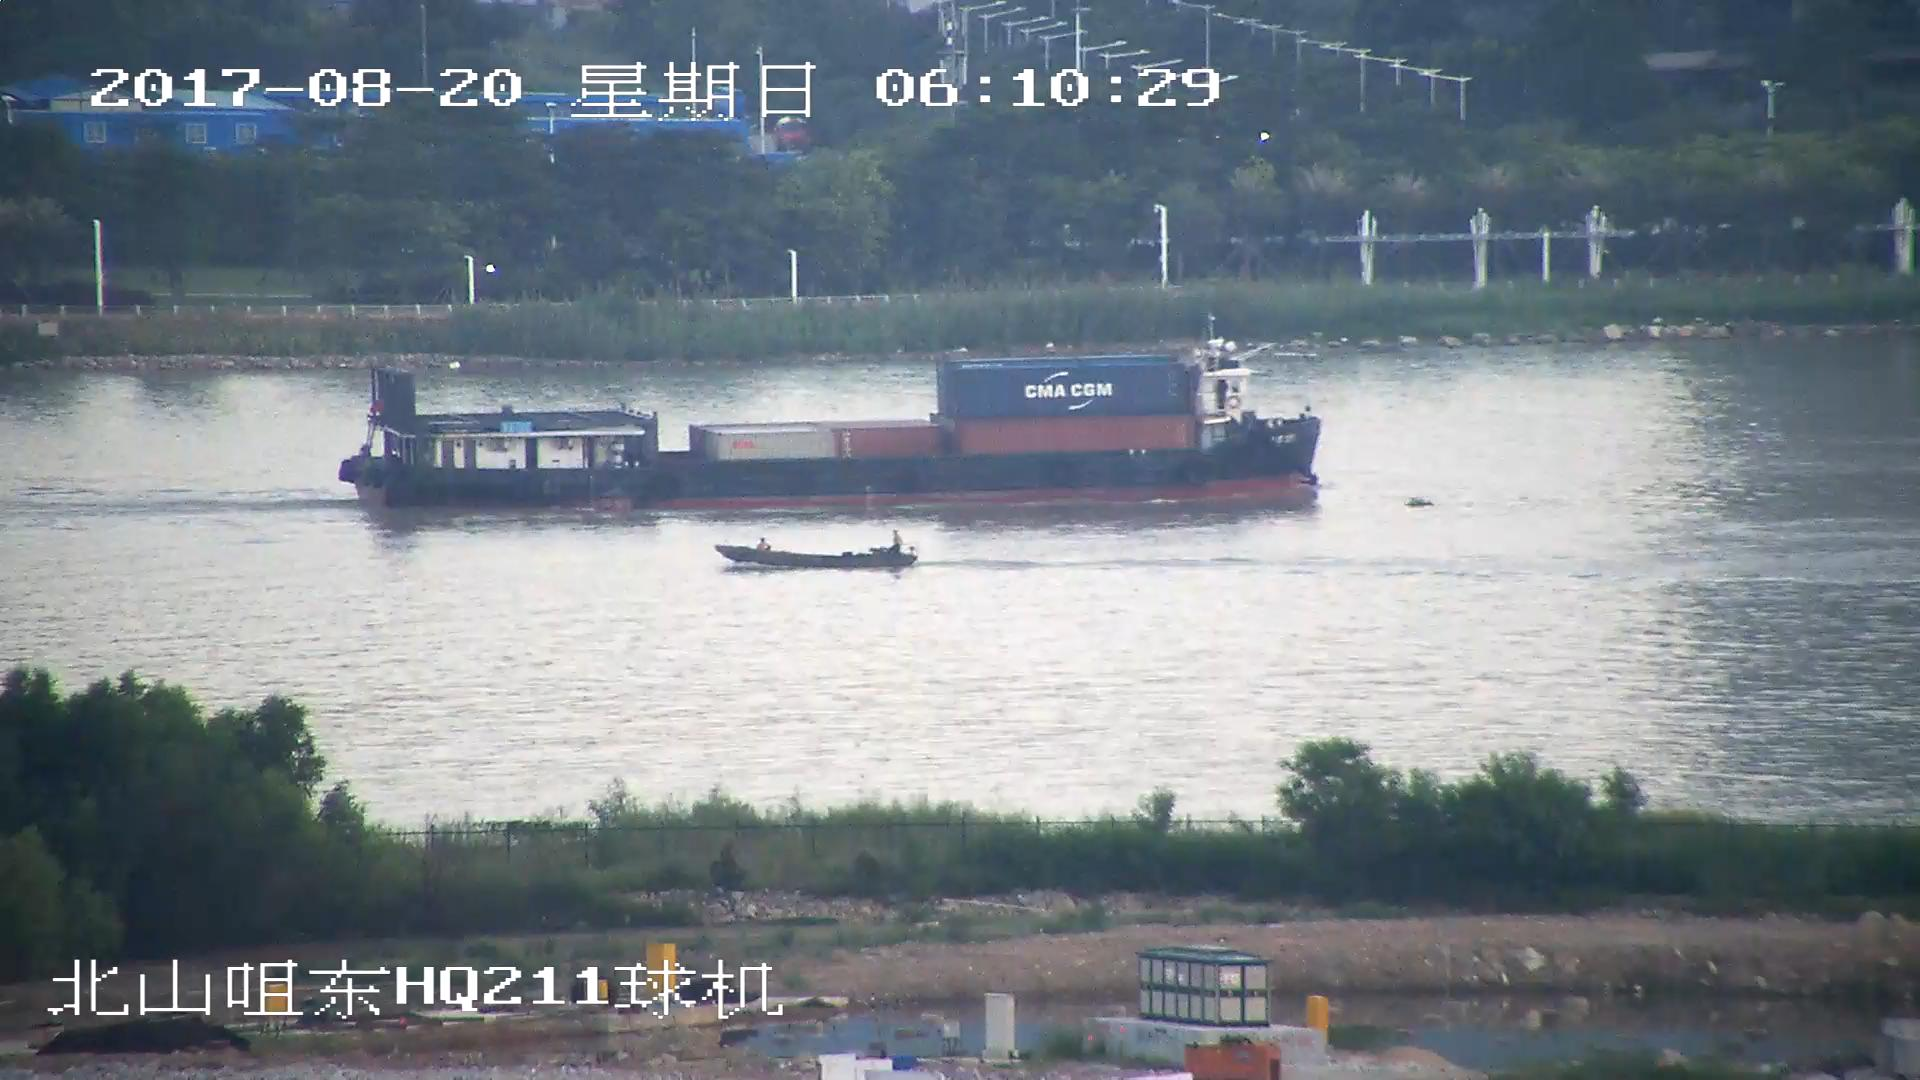container ship: (342, 334, 1325, 512)
fishing boat: (717, 526, 920, 581)
